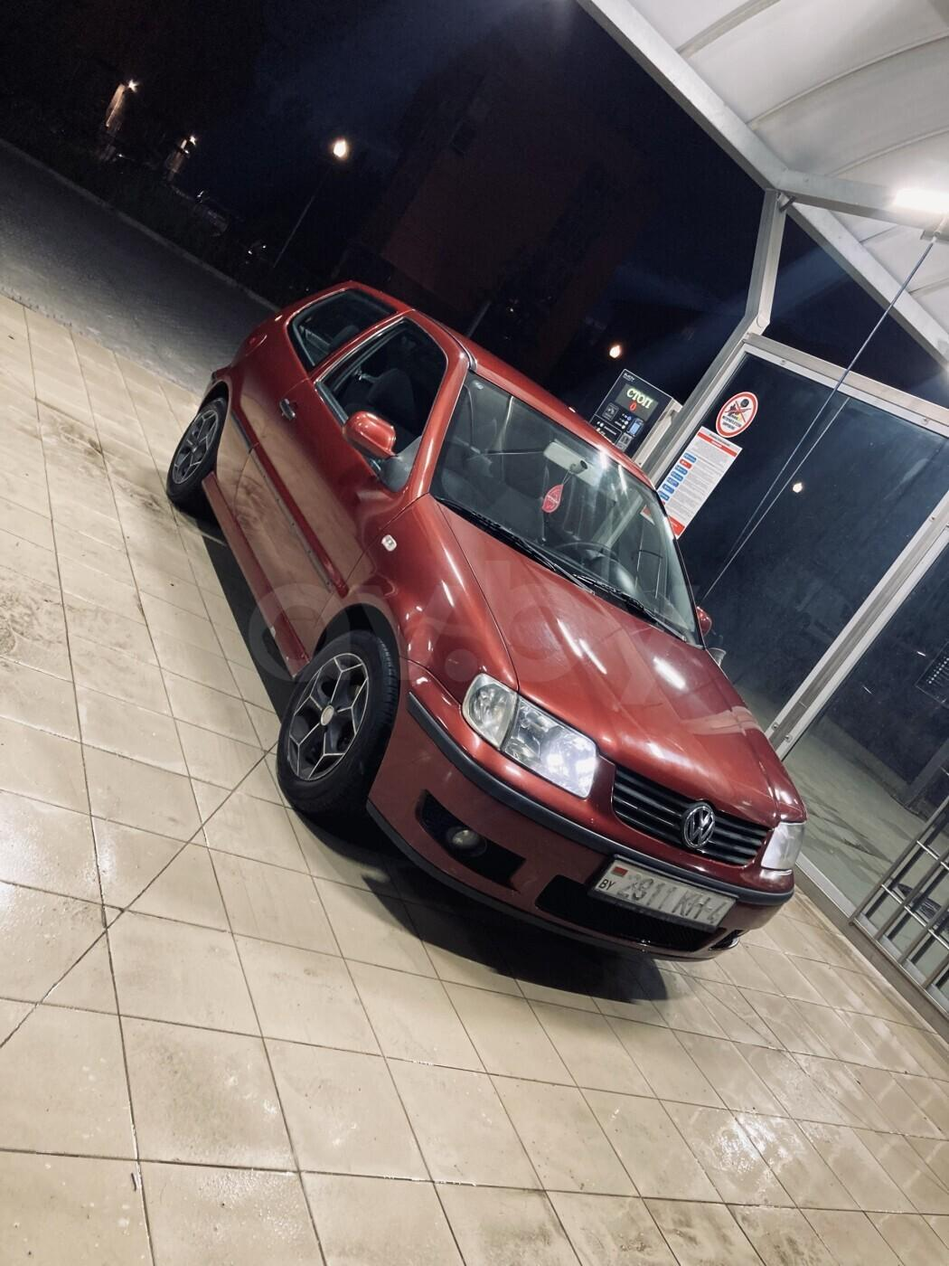Polo_2000-2002: (169, 267, 820, 993)
